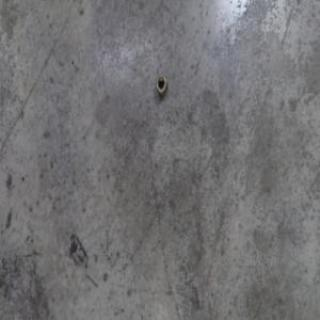Nuttrack_idkeyframe: (154, 72, 168, 97)
